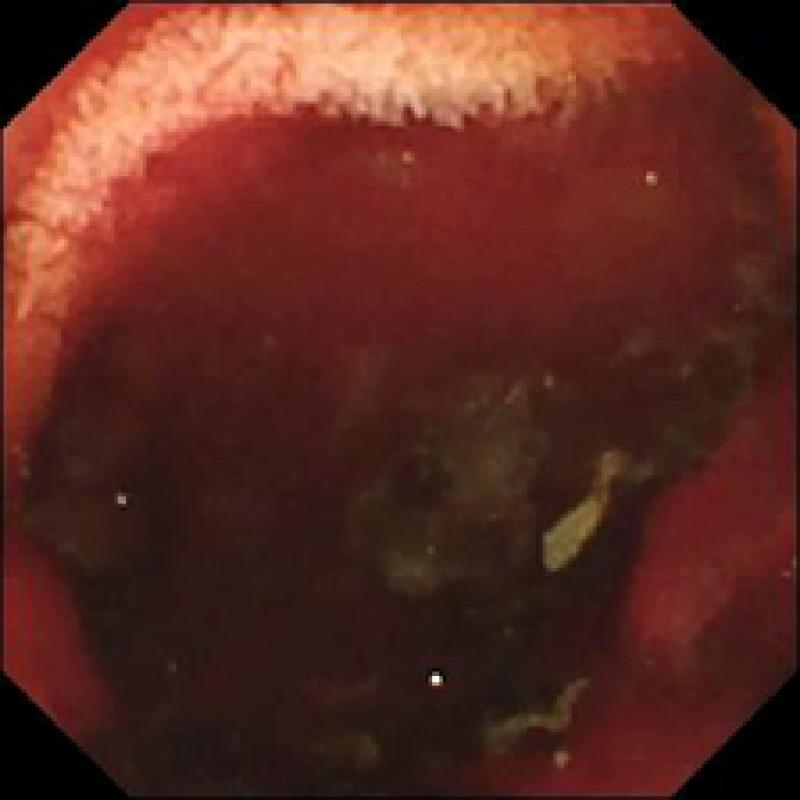bleeding: (86, 89, 743, 407), (546, 415, 790, 800), (0, 527, 119, 739)
